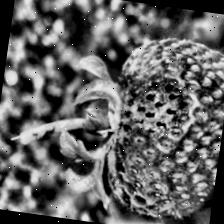Anthracnose Fruit Rot: (127, 78, 196, 137)
